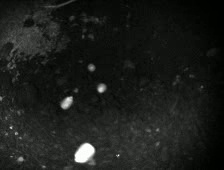corn: (71, 139, 97, 164), (57, 93, 75, 110), (94, 80, 109, 94), (85, 60, 97, 75)
